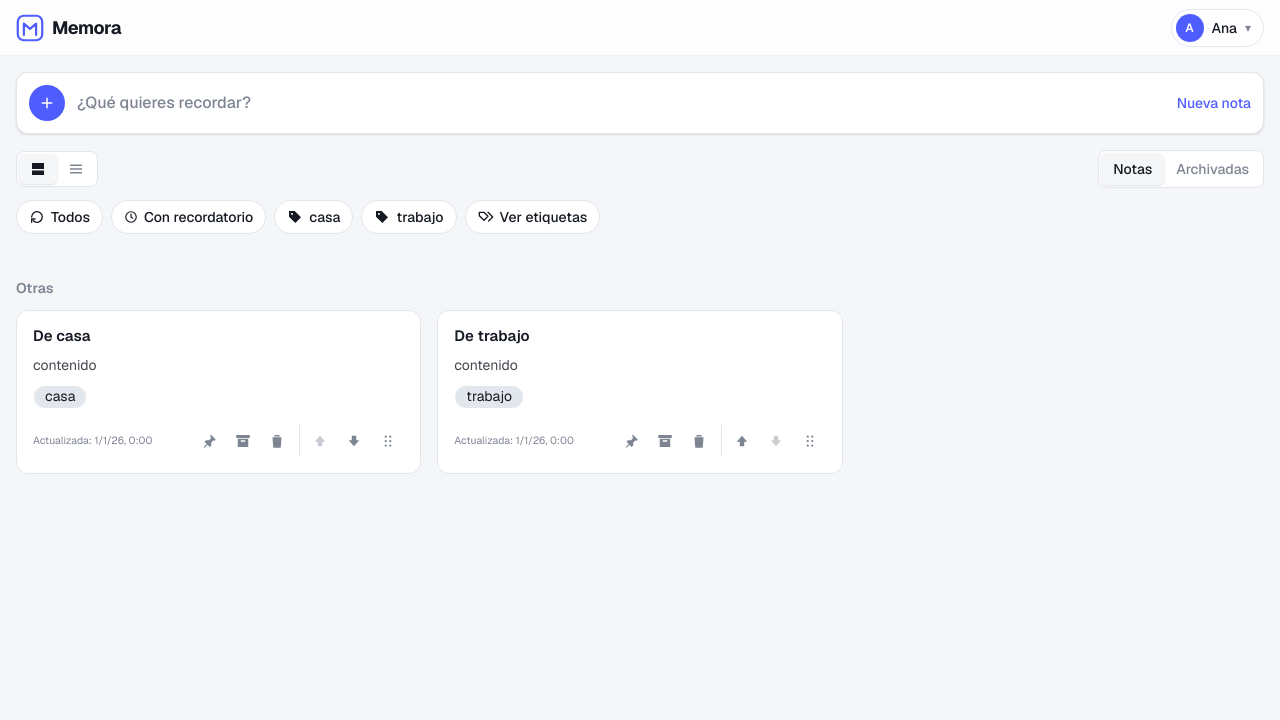
NotesPage · filtros › filtra por etiqueta desde la hoja (RF-3, RF-4)
Expected: the heading "De casa" is shown, [33,326,90,345]
Click the button "Ver etiquetas".
click(532, 217)  # box [464,200,600,234]
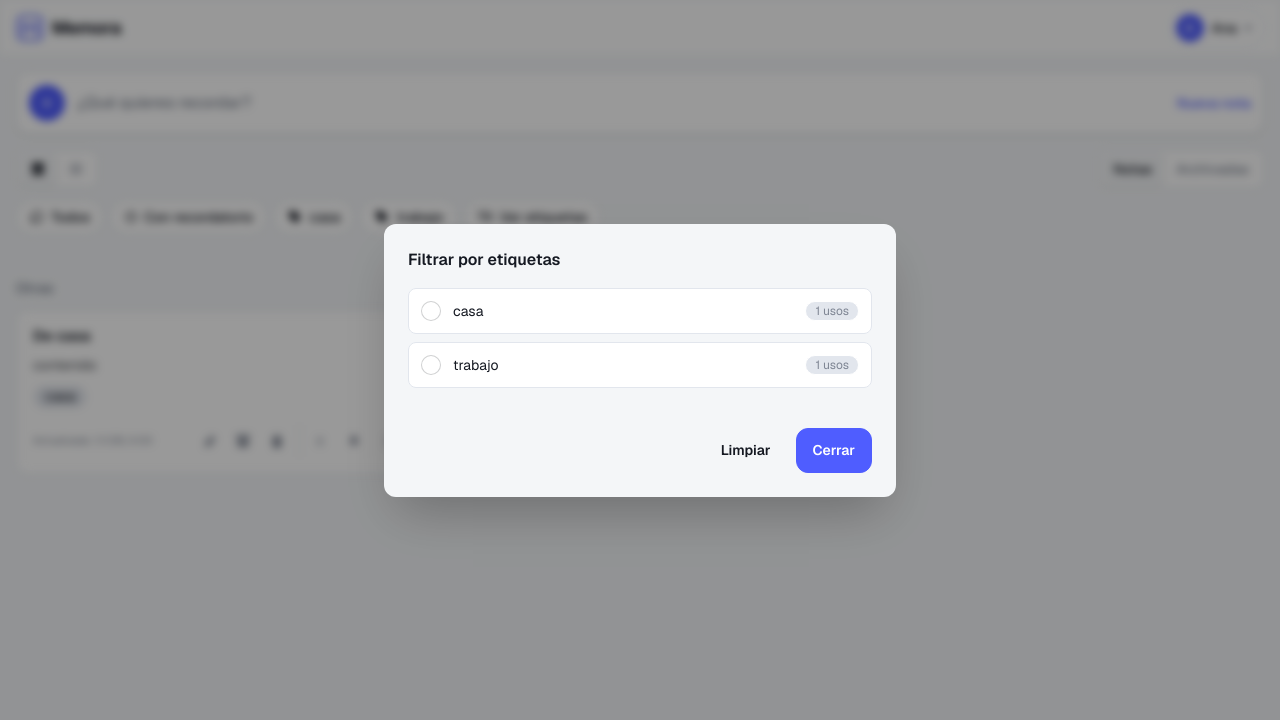
Click the checkbox labelled "casa".
click(431, 310)  # box [421,300,441,320]
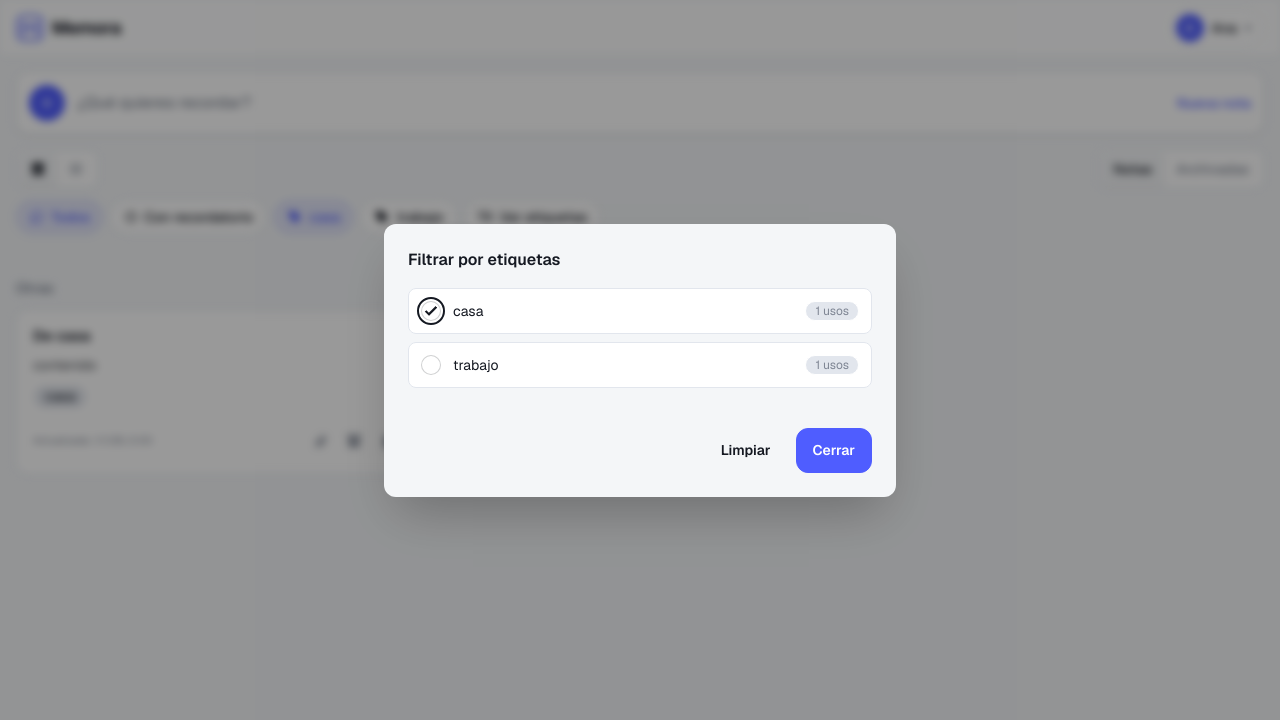
Click the button "Cerrar".
click(834, 450)  # box [796,428,872,472]
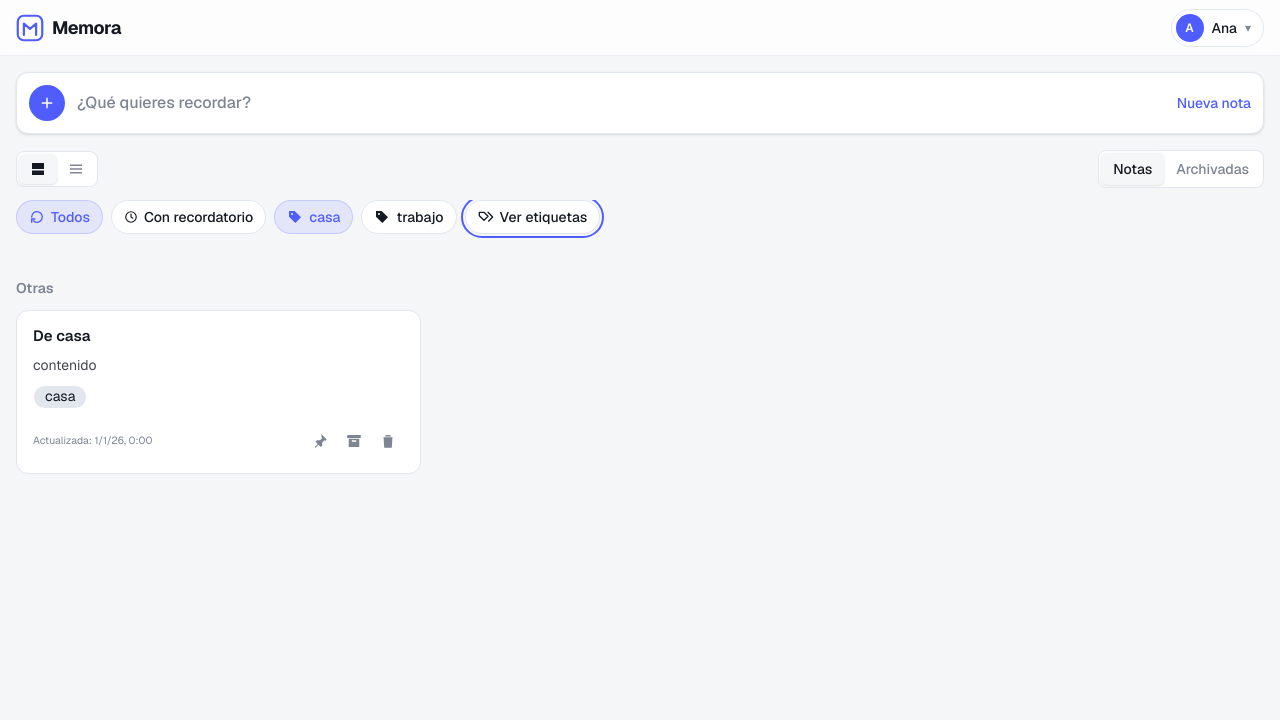
Expected: the heading "De casa" is shown, [33,326,90,345]
Result: the checkbox "De trabajo" is gone
